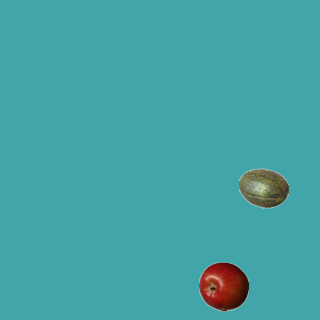Apple Braeburn: (198, 261, 248, 311)
Melon Piel de Sapo: (238, 163, 288, 213)
